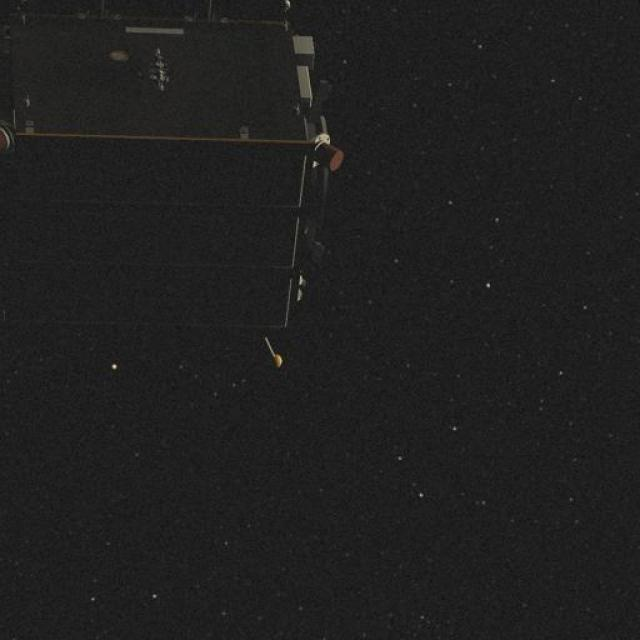proba_2: (25, 27, 344, 358)
